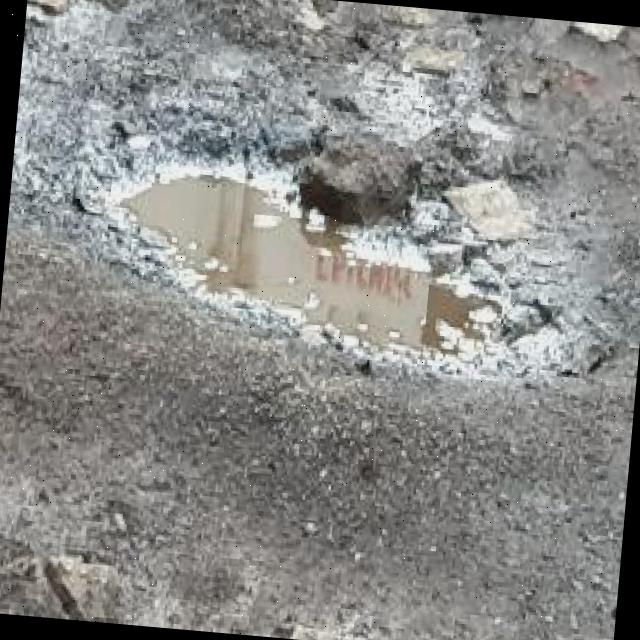stagnation: (113, 114, 596, 414)
